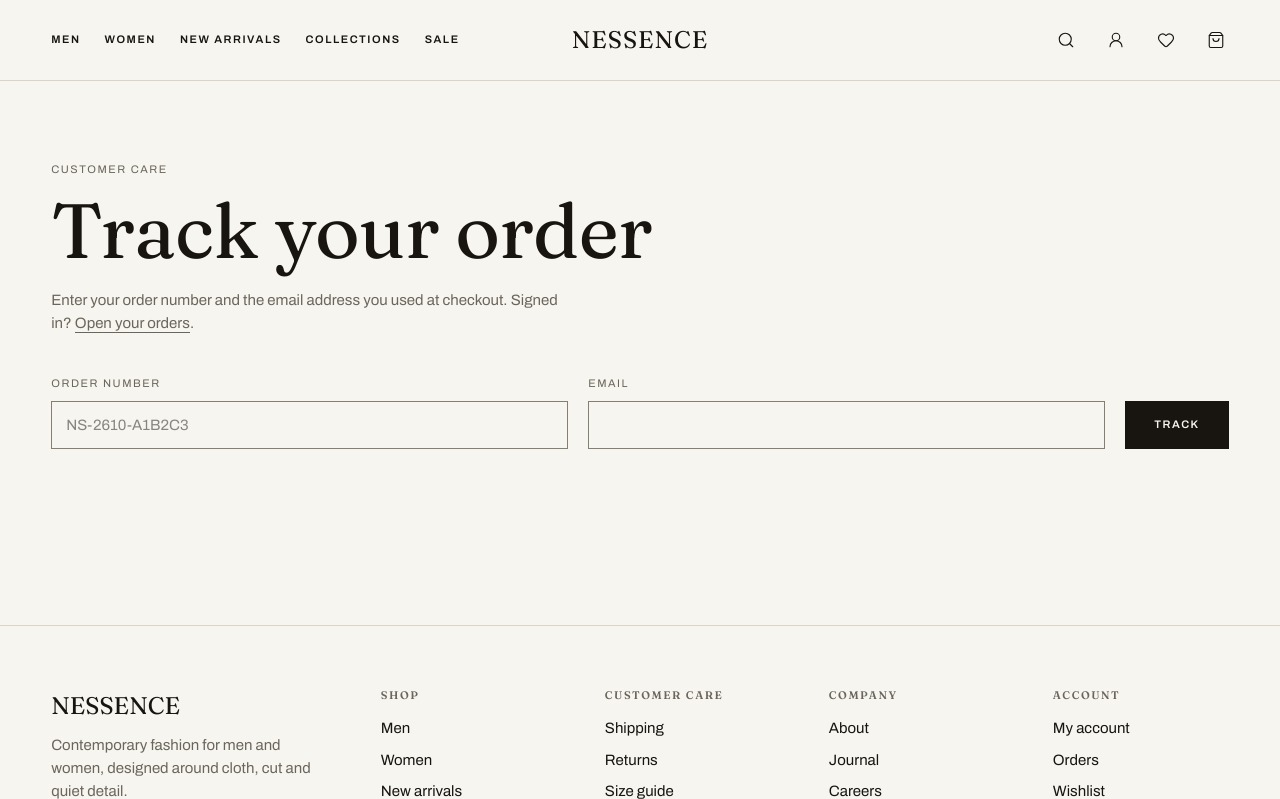
Test: track order › a non-matching order shows a neutral not-found message
Expected: the heading "Track your order" is shown, [51,183,652,278]
Type "NS-2610-AAAAAA" into the field labelled "Order number" at (310,424), box [51,400,568,448]
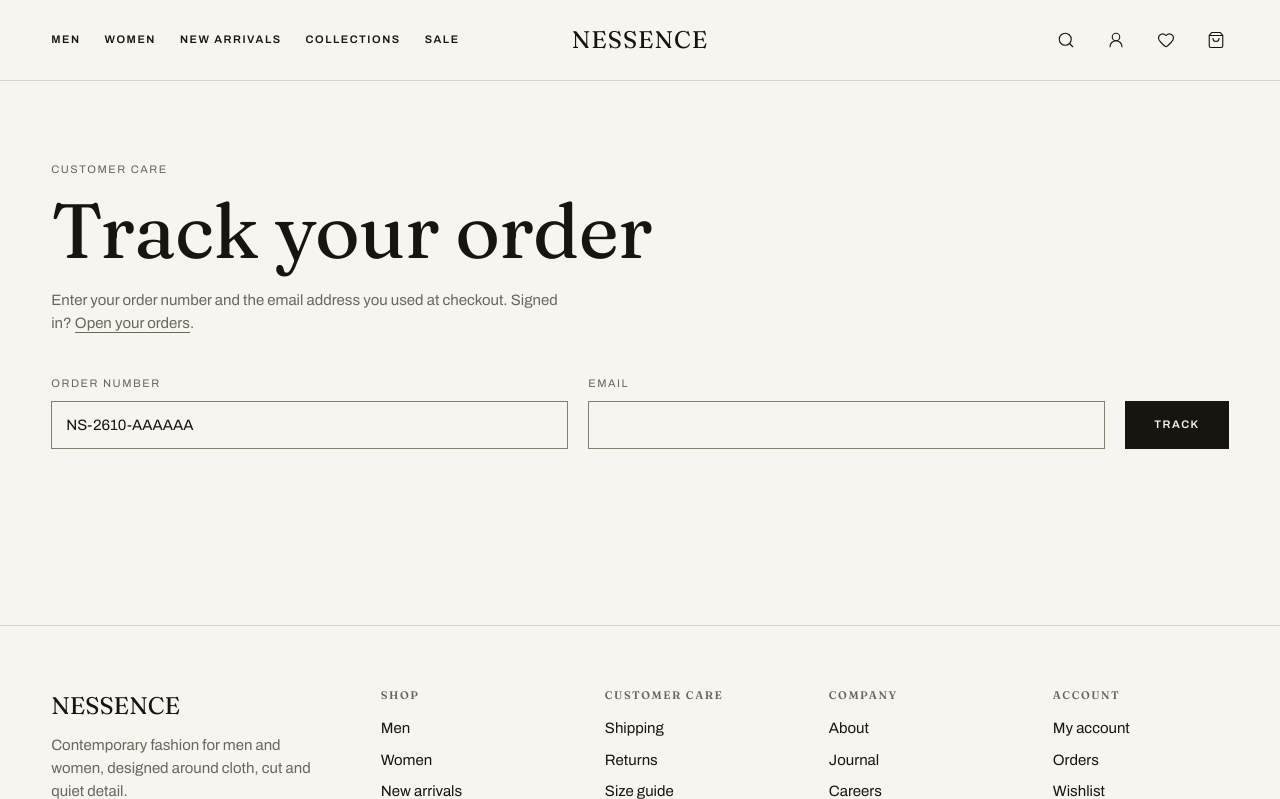
Type "x@example.com" into the field labelled "Email" at (847,424), box [588,400,1105,448]
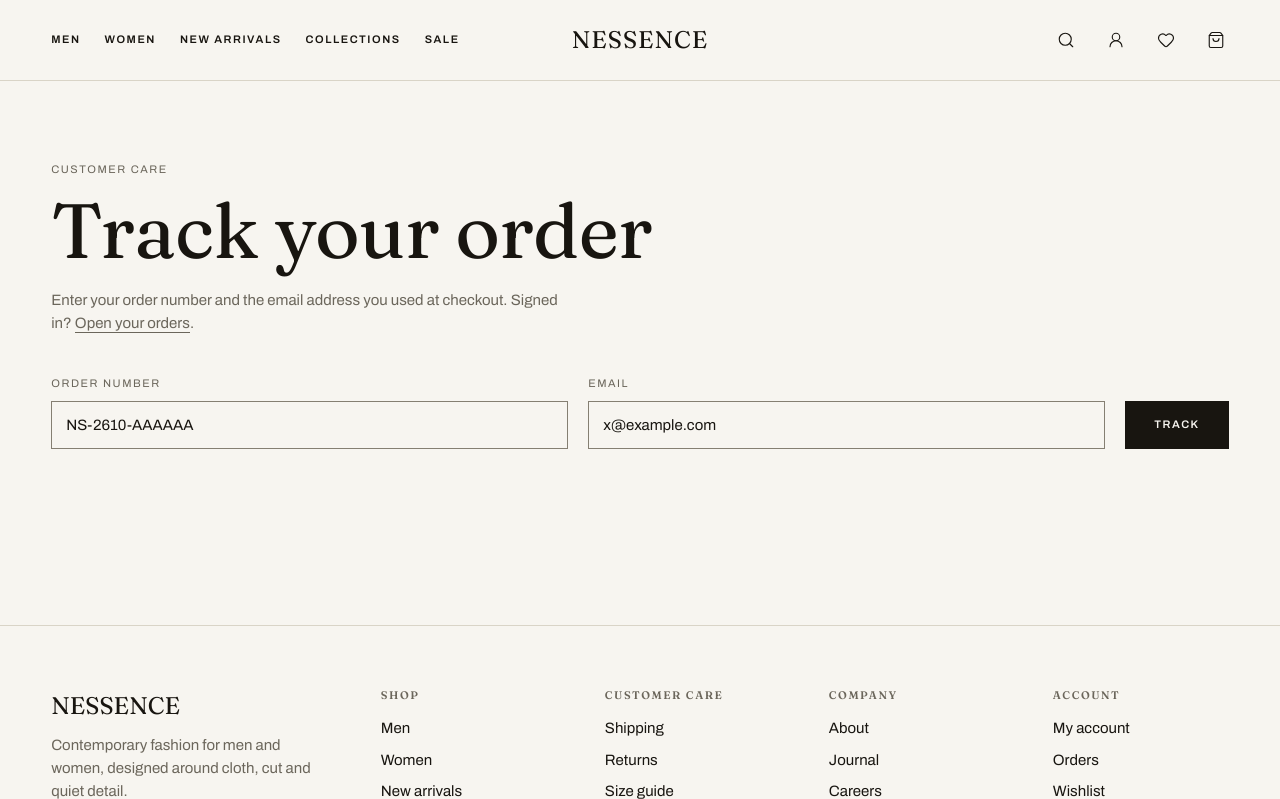
Click the button "Track" at (1177,424), box [1125,400,1229,448]
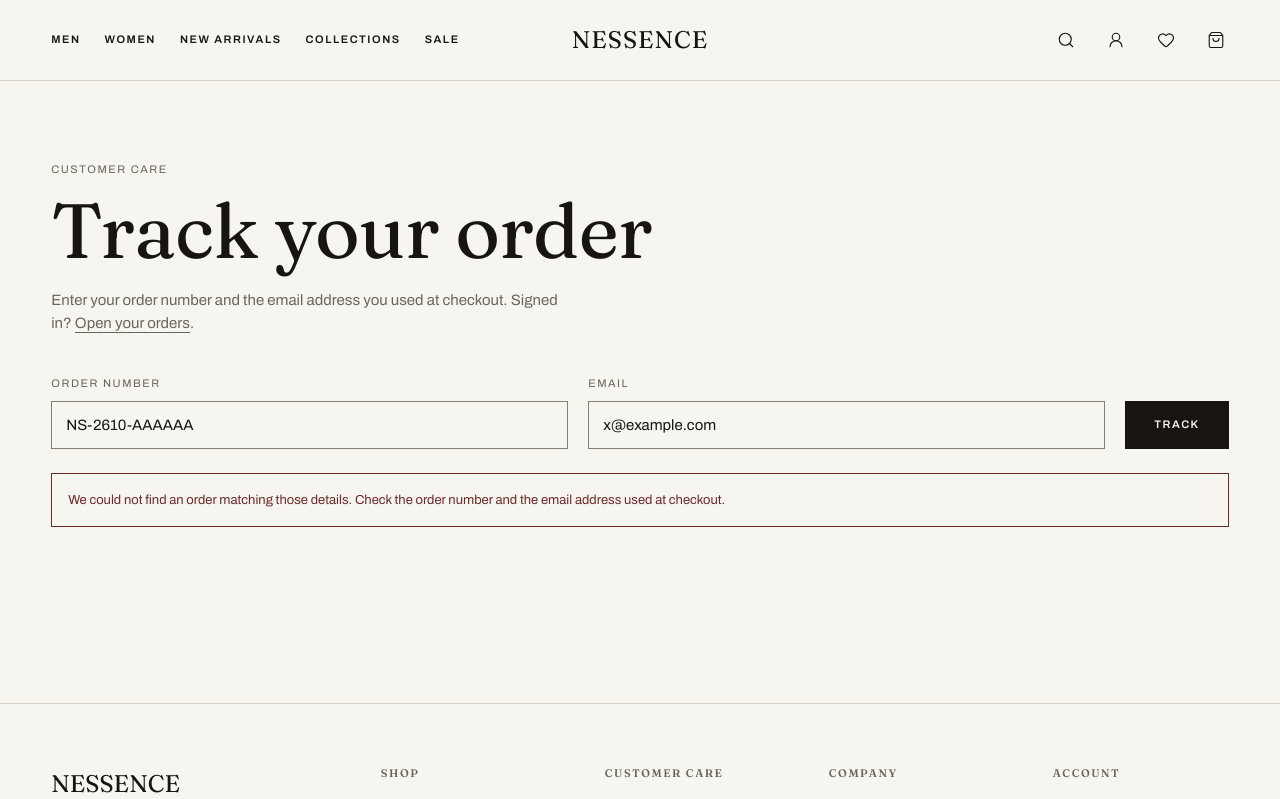
Result: the message shows "could not find an order" at [68,492,725,506]
